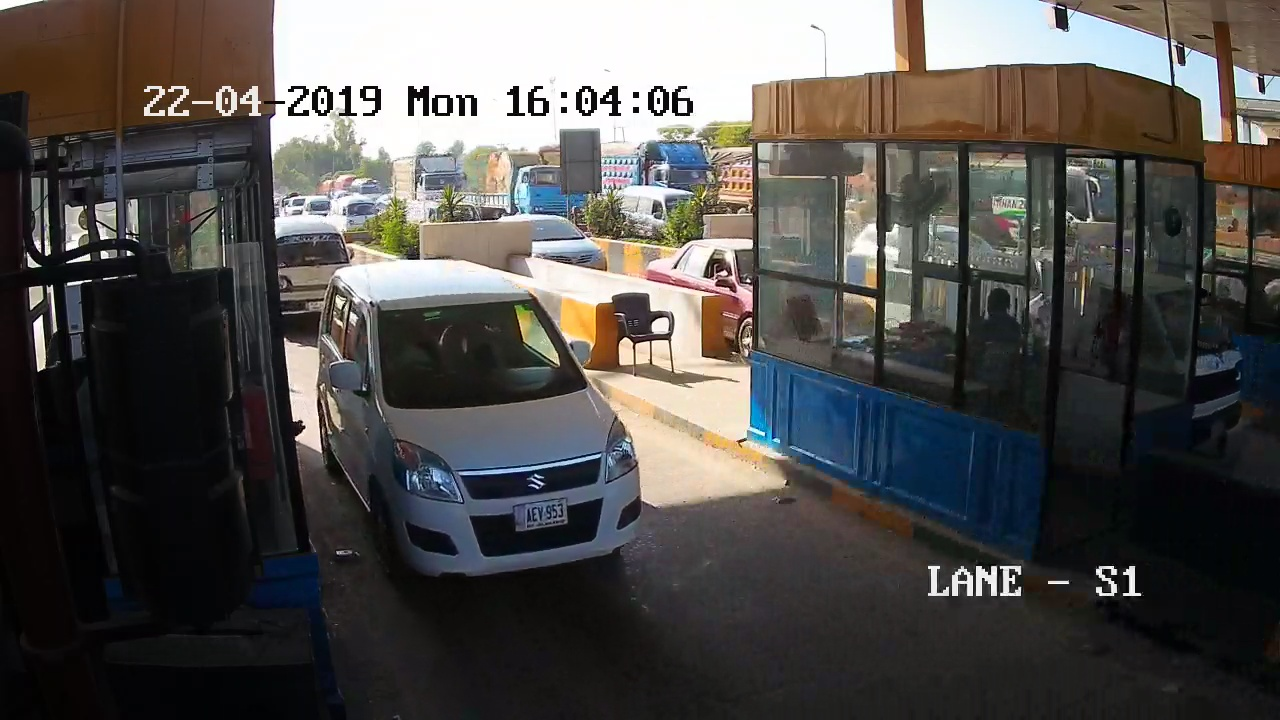Number Plate (Car): (512, 500, 569, 527), (302, 299, 325, 312)
